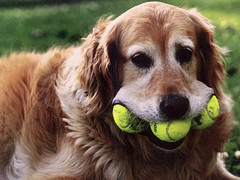tennis ball: (150, 109, 193, 144), (190, 90, 225, 133), (111, 98, 151, 133)
